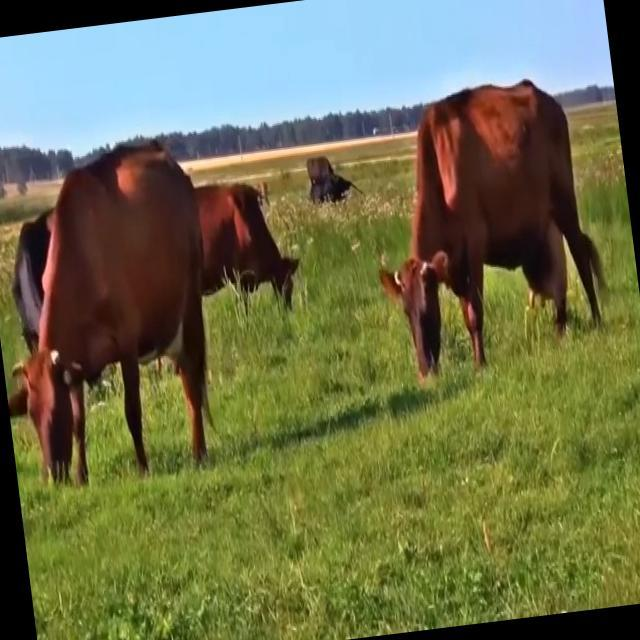COW: (7, 143, 296, 480), (380, 82, 603, 375)
